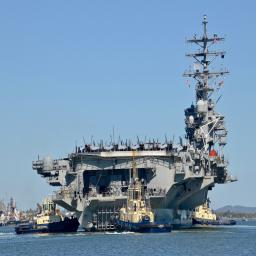Portanaves: (33, 1, 237, 230)
